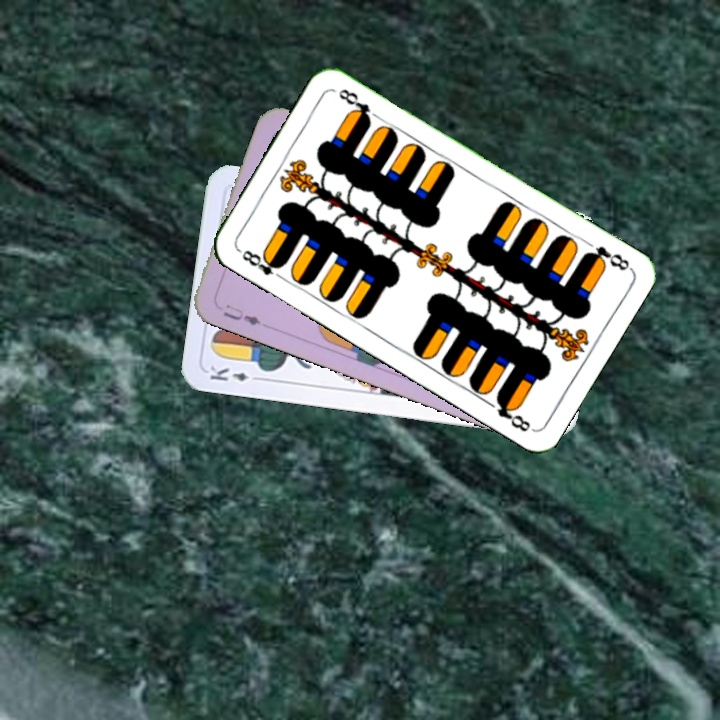E8: (238, 246, 287, 283), (580, 242, 633, 274)
EK: (205, 362, 264, 384)
EU: (219, 300, 263, 329)
